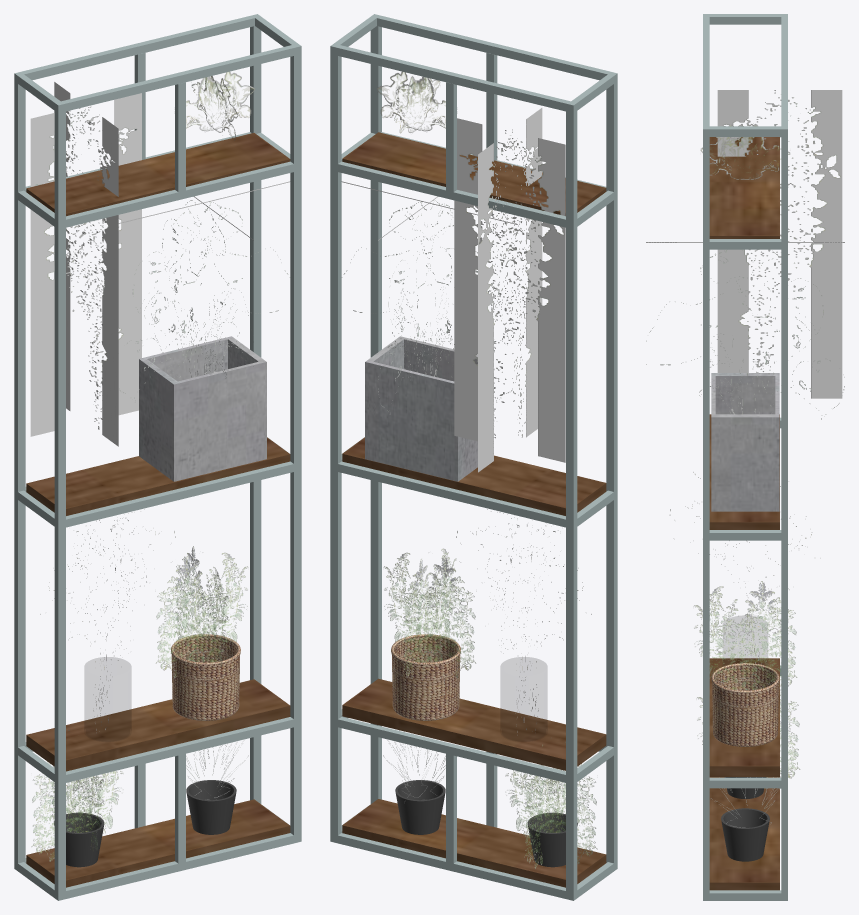
The model's file is shelf-var-3.glb.
The picture shows the model from 3 angles, left to right: view 1: azimuth 30°, elevation 25°; view 2: azimuth 150°, elevation 25°; view 3: azimuth 270°, elevation 25°; orthographic projection. The views are drawn at different scales.
Visible parts, largest first — view 1: シェルフ 31, シェルフ 15, シェルフ 48, シェルフ 30, シェルフ 44, シェルフ 46, シェルフ 45, シェルフ 47, シェルフ 29, シェルフ 43, シェルフ 19, シェルフ 3 (+15 smaller); view 2: シェルフ 31, シェルフ 48, シェルフ 15, シェルフ 30, シェルフ 29, シェルフ 47, シェルフ 44, シェルフ 45, シェルフ 46, シェルフ 43, シェルフ 19, シェルフ 3 (+19 smaller); view 3: シェルフ 47, シェルフ 15, シェルフ 46, シェルフ 31, シェルフ 29, シェルフ 45, シェルフ 19, シェルフ, シェルフ 44, シェルフ 18, シェルフ 43, シェルフ 17 (+11 smaller).
Part boxes in pixels (x1,y1,x2,y2): シェルフ 31: (54, 44, 301, 900); シェルフ 15: (139, 336, 266, 481); シェルフ 48: (30, 93, 141, 436); シェルフ 30: (14, 72, 25, 868); シェルフ 44: (26, 679, 290, 771); シェルフ 46: (26, 133, 290, 216); シェルフ 45: (26, 799, 290, 887); シェルフ 47: (54, 82, 118, 446); シェルフ 29: (250, 14, 261, 803); シェルフ 43: (26, 437, 290, 515); シェルフ 19: (171, 637, 239, 720); シェルフ 3: (156, 552, 248, 678); シェルフ 31: (370, 14, 617, 870); シェルフ 48: (454, 118, 565, 462); シェルフ 15: (365, 336, 477, 481); シェルフ 30: (566, 101, 577, 900); シェルフ 29: (330, 44, 341, 843); シェルフ 47: (478, 108, 542, 472); シェルフ 44: (342, 678, 606, 770); シェルフ 45: (342, 799, 606, 887); シェルフ 46: (342, 132, 606, 215); シェルフ 43: (342, 437, 606, 515); シェルフ 19: (392, 637, 460, 720); シェルフ 3: (383, 552, 475, 678); シェルフ 47: (717, 90, 842, 398); シェルフ 15: (711, 373, 779, 511); シェルフ 46: (709, 137, 779, 238); シェルフ 31: (703, 14, 709, 900); シェルフ 29: (781, 125, 787, 900); シェルフ 45: (709, 777, 779, 890); シェルフ 19: (712, 666, 778, 746); シェルフ: (693, 581, 797, 690); シェルフ 44: (709, 658, 779, 776); シェルフ 18: (721, 808, 769, 861); シェルフ 43: (709, 414, 779, 529); シェルフ 17: (646, 242, 844, 419).
Size of the model in its own units: 8.51 by 25 by 5.84.
12 materials, 9 textured.
